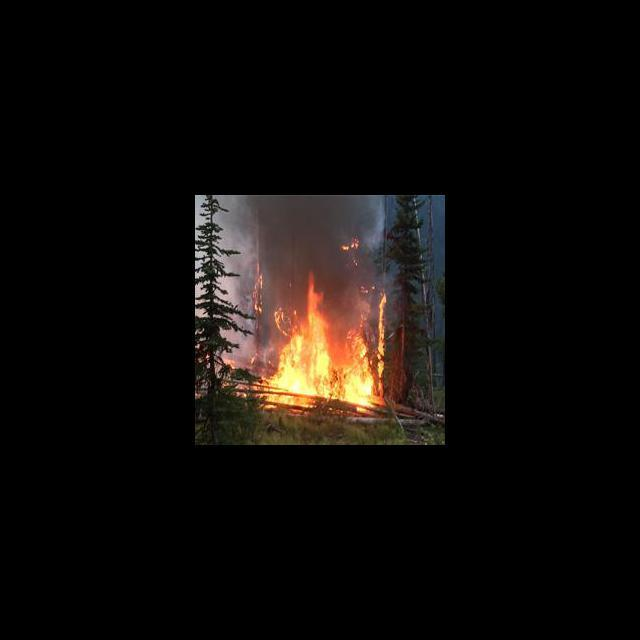Fire: (268, 268, 392, 408)
